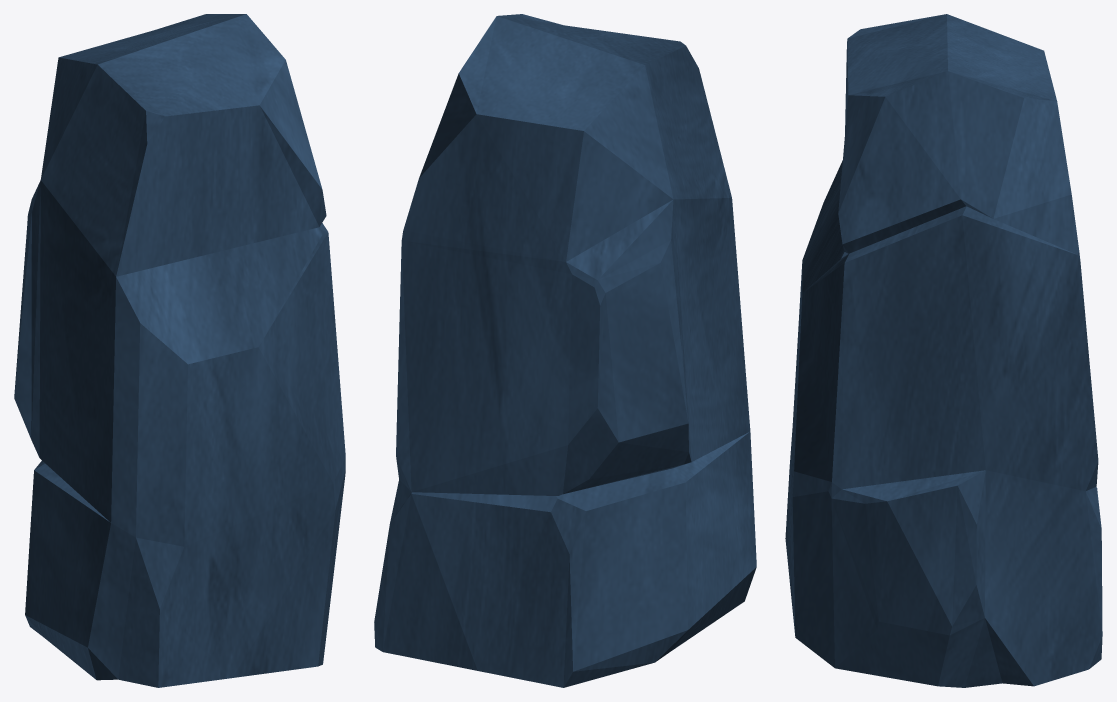
File: stone1 copy.glb
3 renders of one model, left to right at view 1: azimuth 30°, elevation 25°; view 2: azimuth 150°, elevation 25°; view 3: azimuth 270°, elevation 25°, orthographic. The views are drawn at different scales.
Parts seen in each view (by area): view 1: stone1; view 2: stone1; view 3: stone1.
Boxes of the visible parts, left/top/right/bottom form: stone1: left=14, top=14, right=345, bottom=687; stone1: left=374, top=14, right=756, bottom=687; stone1: left=785, top=14, right=1102, bottom=687.
Bounding box in the file's own units: 2.28 × 4.7 × 2.26.
1 material, 1 textured.
